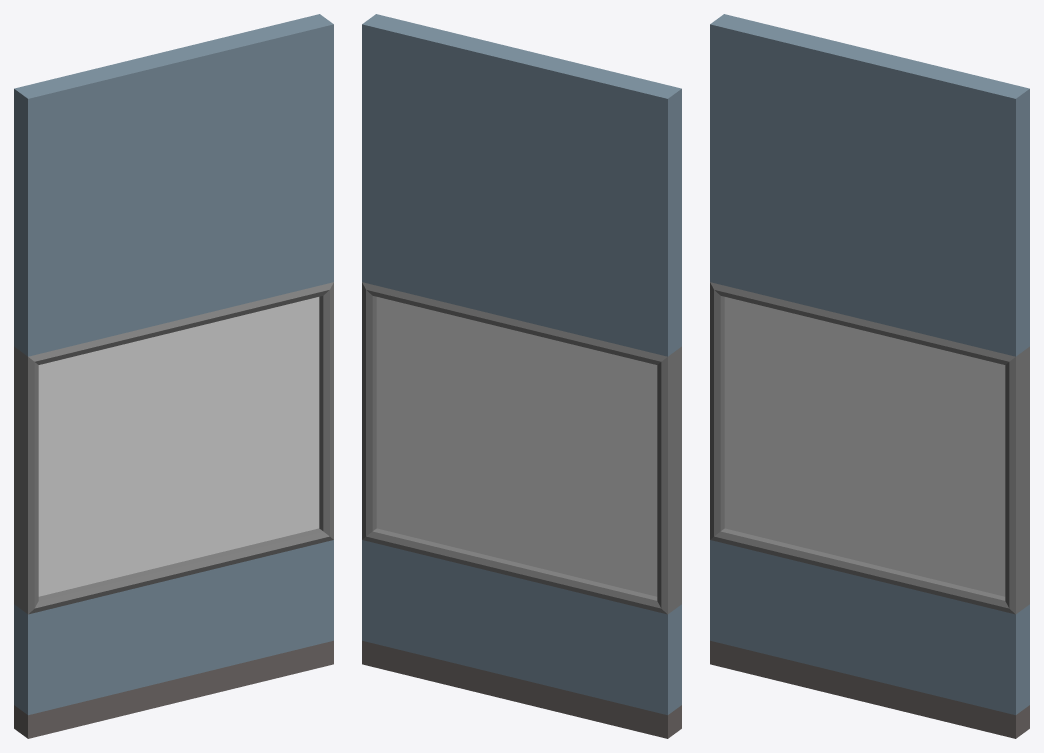
Rendered from wallOfficeWindow.fbx.
The picture shows the model from 3 angles, left to right: view 1: azimuth 30°, elevation 25°; view 2: azimuth 150°, elevation 25°; view 3: azimuth 330°, elevation 25°; orthographic projection.
Parts seen in each view (by area): view 1: Wall - OfficeWindow; view 2: Wall - OfficeWindow; view 3: Wall - OfficeWindow.
Boxes of the visible parts, x1=… form: Wall - OfficeWindow: x1=14, y1=14, x2=333, y2=738; Wall - OfficeWindow: x1=362, y1=14, x2=681, y2=738; Wall - OfficeWindow: x1=710, y1=14, x2=1029, y2=738.
Bounding box in the file's own units: 200 × 18.71 × 400.
